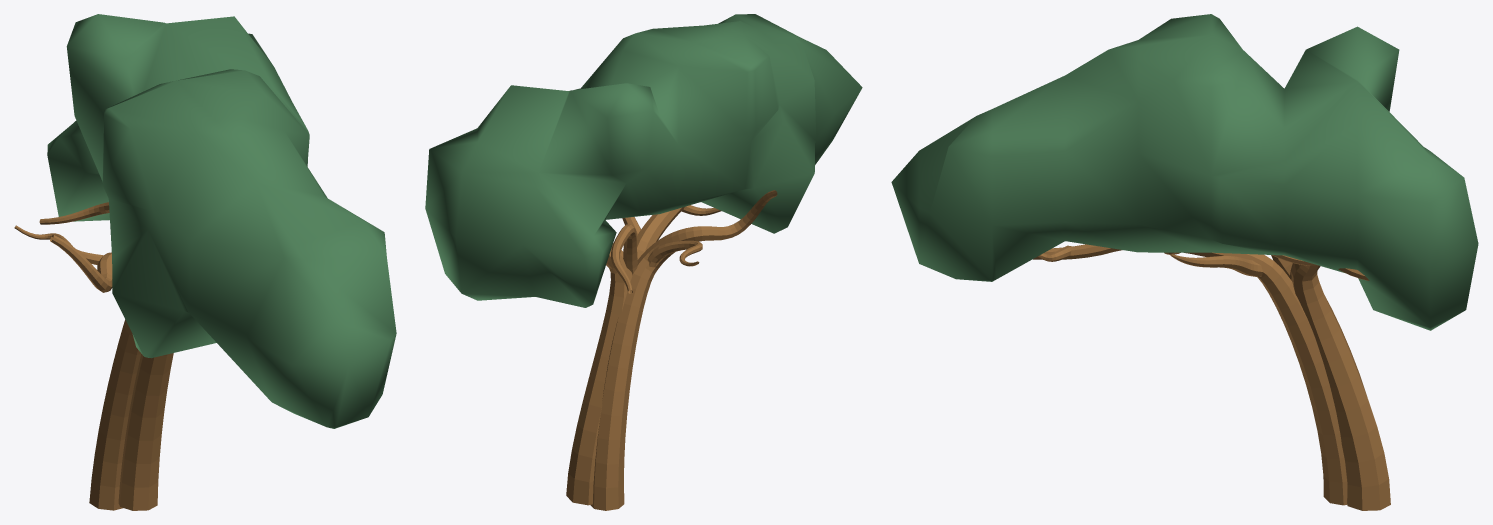
The model's file is arbre2_v2.fbx.
3 renders of one model, left to right at view 1: azimuth 30°, elevation 25°; view 2: azimuth 150°, elevation 25°; view 3: azimuth 270°, elevation 25°, orthographic. The views are drawn at different scales.
Visible parts, largest first — view 1: Mball, BezierCurve.004; view 2: Mball, BezierCurve.004; view 3: Mball, BezierCurve.004.
Part boxes in pixels (x1,y1,x2,y2): Mball: (47,14,396,428); BezierCurve.004: (14,202,173,510); Mball: (425,14,862,307); BezierCurve.004: (566,190,777,510); Mball: (891,14,1478,330); BezierCurve.004: (1033,244,1390,510).
Bounding box in the file's own units: 1145 × 1752 × 2018.
